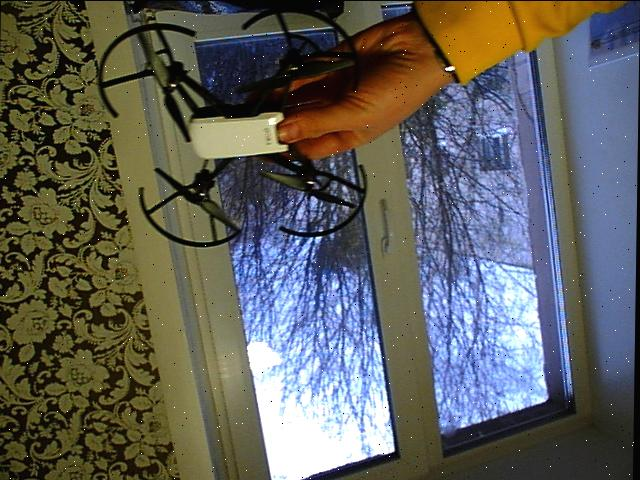drone: (85, 0, 374, 252)
